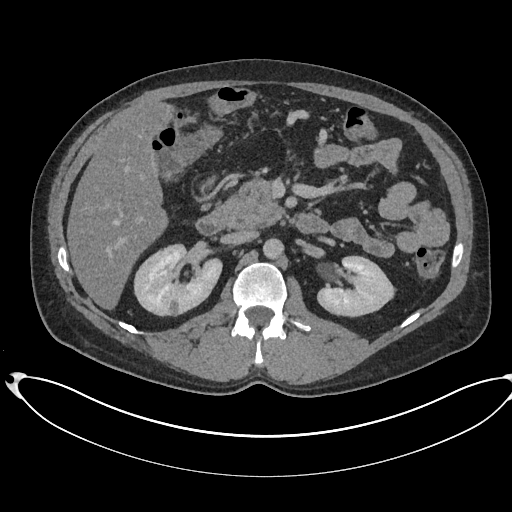Lesion: (167, 296, 180, 318)
